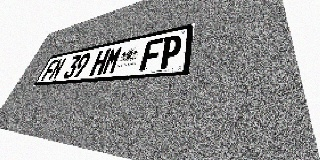3: (62, 54, 82, 79)
9: (71, 52, 92, 78)
F: (139, 38, 164, 71), (40, 59, 59, 81)
H: (89, 48, 111, 76)
M: (101, 46, 124, 75)
N: (48, 57, 67, 80)
P: (157, 34, 183, 69)
